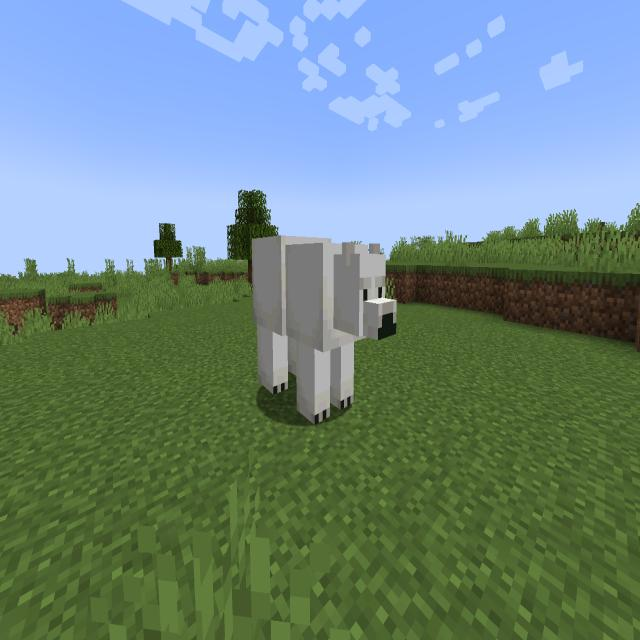Polar Bear: (244, 223, 402, 440)
